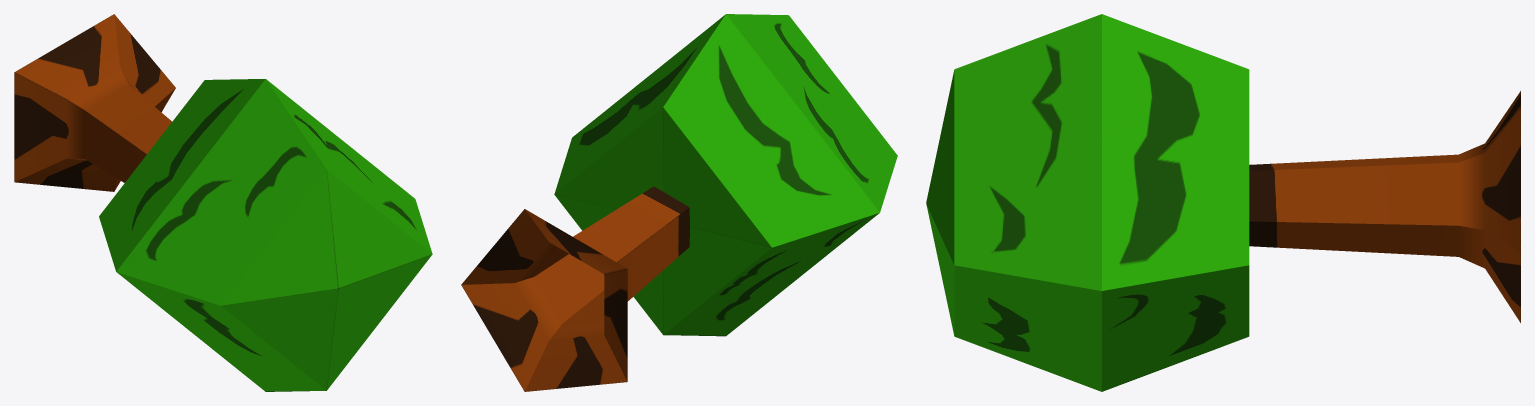
The model's file is tree3texture.glb.
3 renders of one model, left to right at view 1: azimuth 30°, elevation 25°; view 2: azimuth 150°, elevation 25°; view 3: azimuth 270°, elevation 25°, orthographic. The views are drawn at different scales.
Parts seen in each view (by area): view 1: pCylinder4; view 2: pCylinder4; view 3: pCylinder4.
Boxes of the visible parts, x1,y1,x2,y2 form: pCylinder4: [14, 14, 432, 391]; pCylinder4: [461, 14, 897, 391]; pCylinder4: [926, 14, 1520, 391].
Bounding box in the file's own units: 2.25 × 2.25 × 3.2.
Materials: 1 (1 with a texture image).
